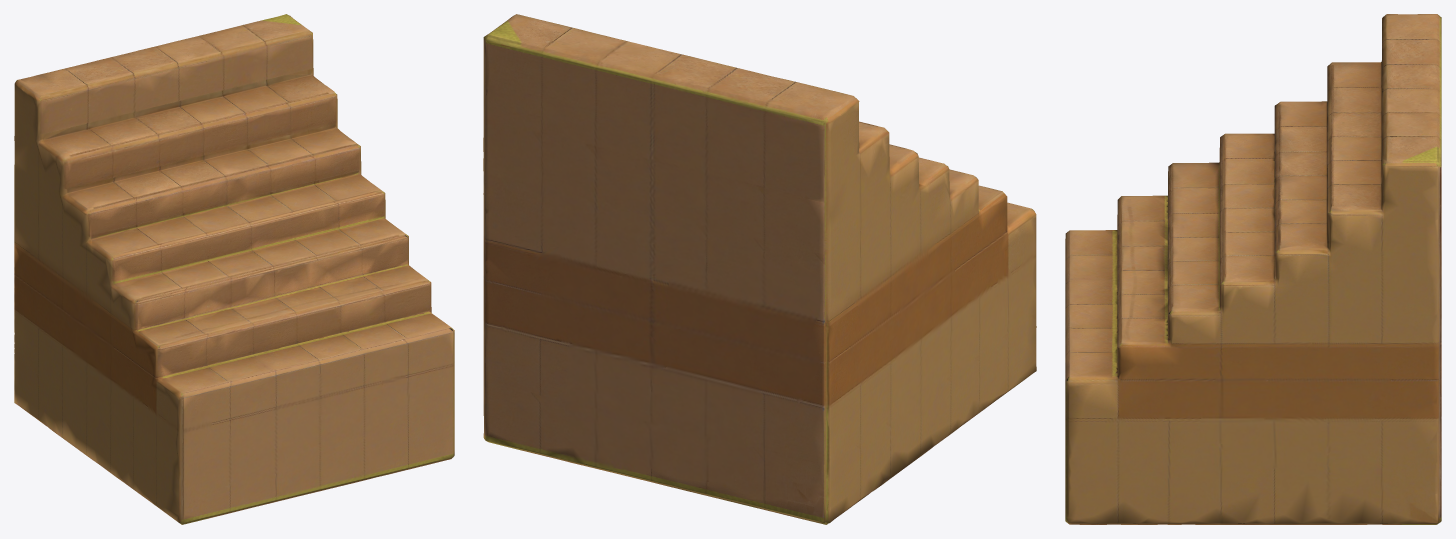
The model's file is Escher_s_Steps_0404141451_texture.glb.
3 renders of one model, left to right at view 1: azimuth 30°, elevation 25°; view 2: azimuth 150°, elevation 25°; view 3: azimuth 270°, elevation 25°, orthographic. The views are drawn at different scales.
Size of the model in its own units: 1.78 by 2 by 1.88.
1 material, 1 textured.
